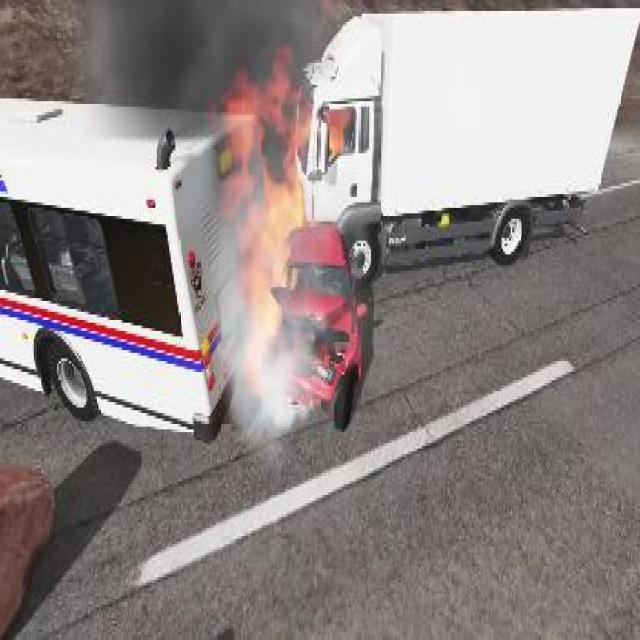accident: (1, 0, 638, 438), (0, 0, 369, 454), (260, 0, 638, 432)
